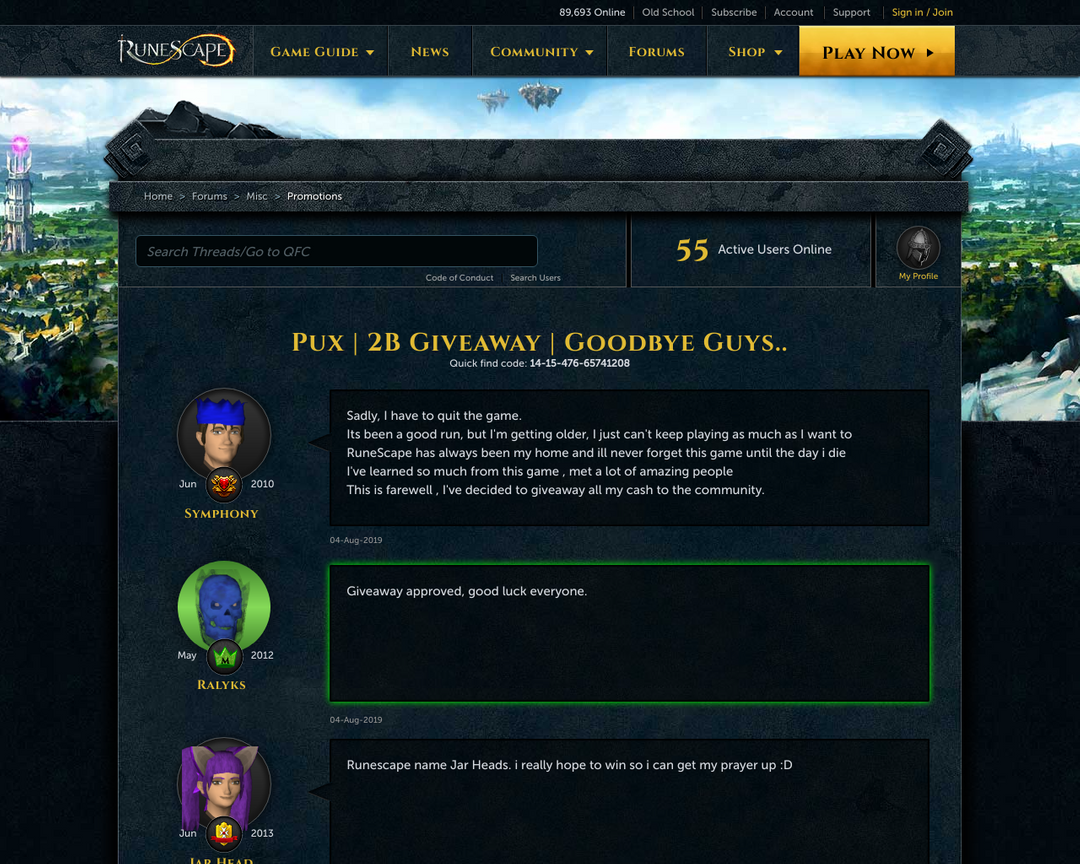Runescape: (111, 25, 238, 68)
